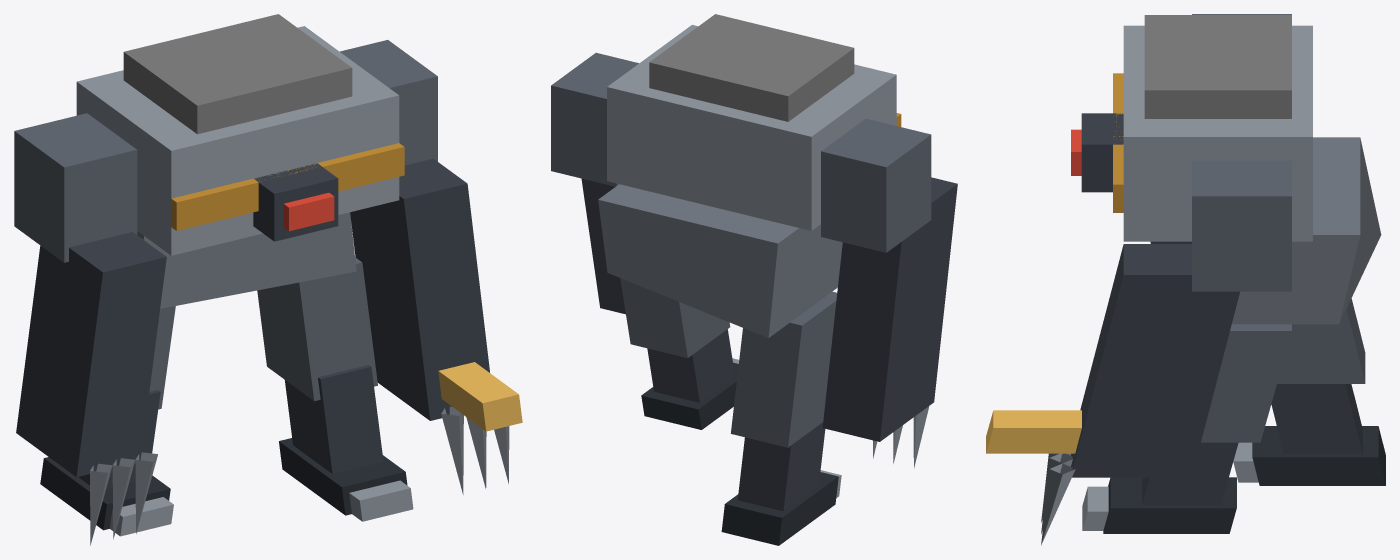
The model's file is wrecker-walk-1.obj.
3 renders of one model, left to right at view 1: azimuth 30°, elevation 25°; view 2: azimuth 150°, elevation 25°; view 3: azimuth 270°, elevation 25°, orthographic. The views are drawn at different scales.
Visible parts, largest first — view 1: wrecker-walk-1; view 2: wrecker-walk-1; view 3: wrecker-walk-1.
Boxes of the visible parts, bbox=[...] form: wrecker-walk-1: bbox=[14, 14, 522, 545]; wrecker-walk-1: bbox=[551, 14, 957, 545]; wrecker-walk-1: bbox=[986, 14, 1385, 545].
Bounding box in the file's own units: 1.67 × 1.92 × 1.52.
